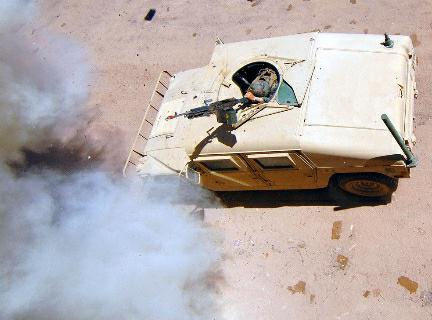悍马-H1: (112, 26, 421, 210)
